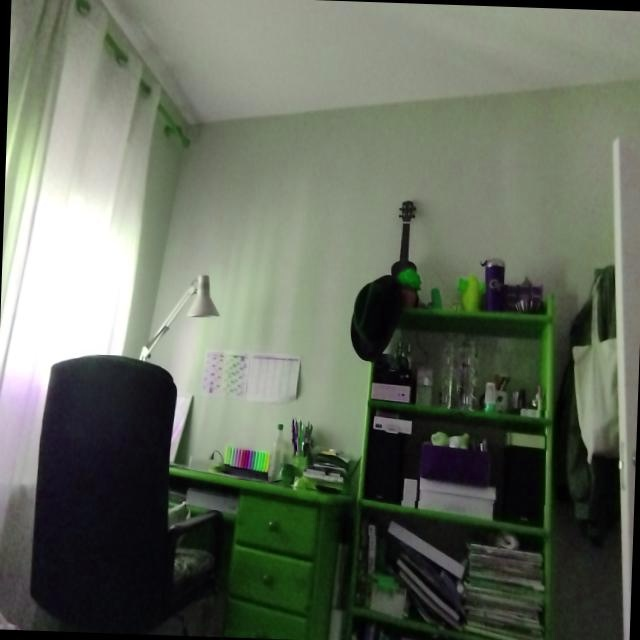bookshelf: (358, 500, 546, 541), (361, 606, 537, 640), (417, 406, 550, 436), (432, 309, 538, 322)
cabinet: (169, 466, 348, 640)
chair: (28, 355, 226, 636)
lamp: (141, 275, 219, 360)
